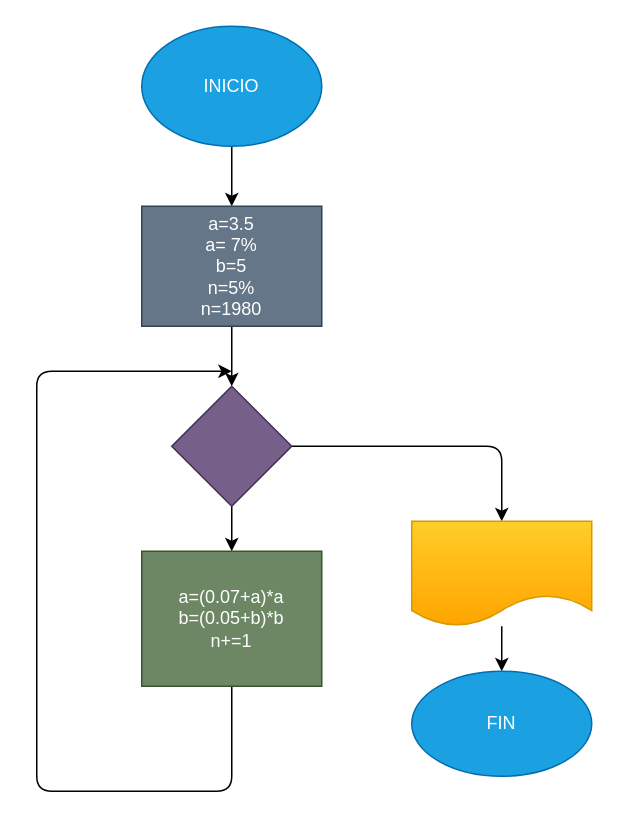
Image size: 618x830. Some labels were removed from this diagram. Each missing label, with the box of its shape:
b>a: (170, 385, 292, 506)
El año en que ocurrio esto: (410, 520, 592, 626)
